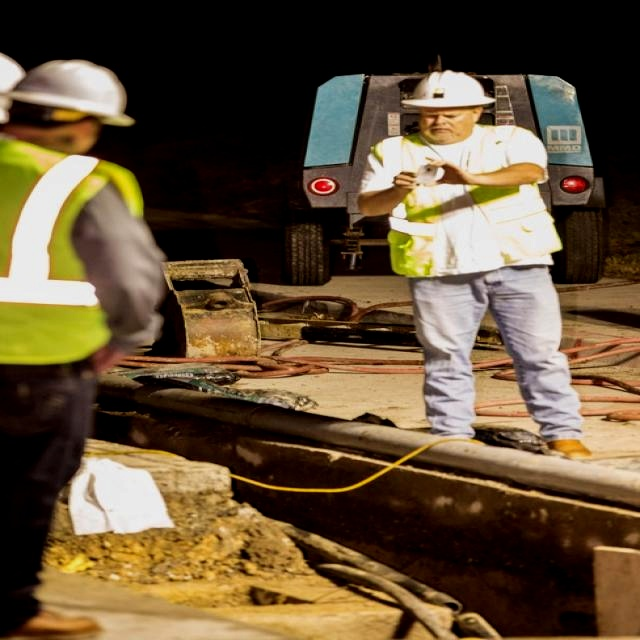Con_Casco: (8, 58, 136, 130), (399, 71, 497, 135)
Con_Chaleco: (0, 136, 151, 362), (373, 129, 558, 275)
